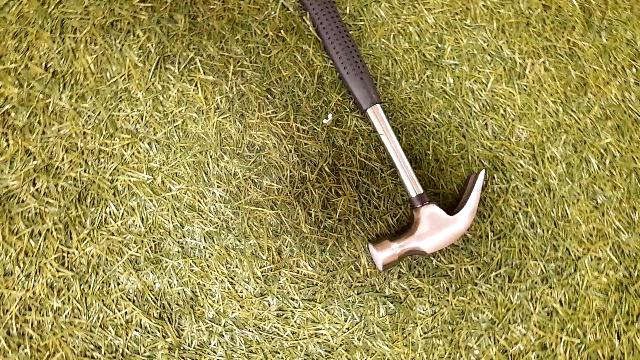hammer: (272, 2, 510, 282)
